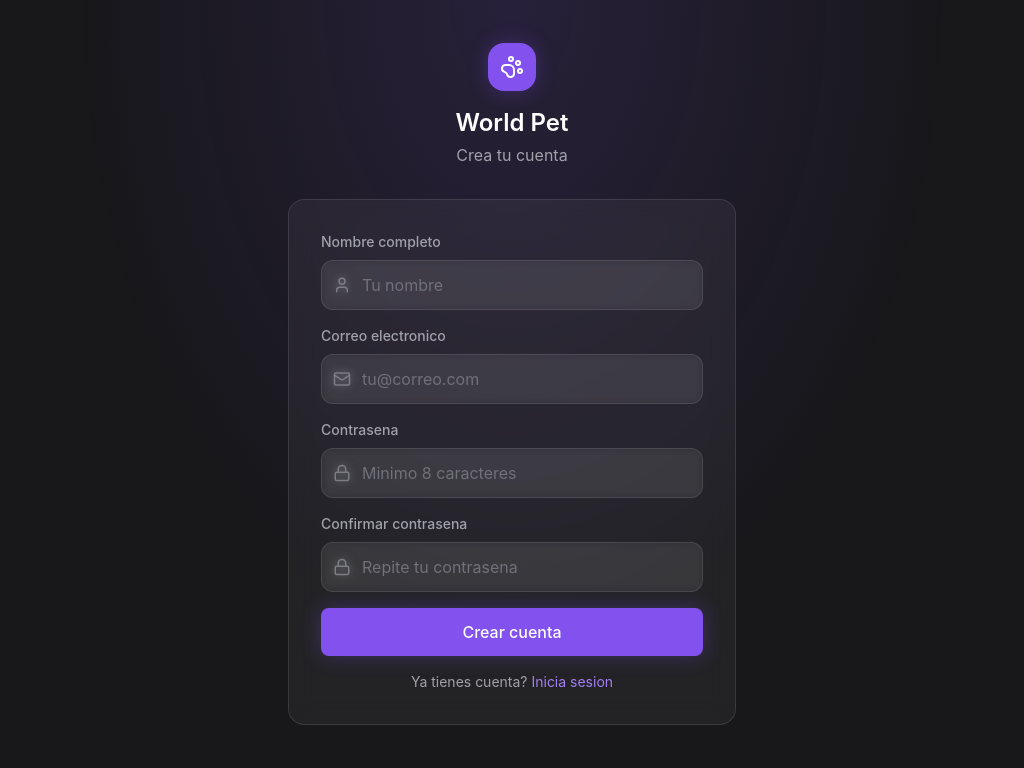
Test case: Register › shows validation error for short name
The width and height of the screenshot is (1024, 768).
Type "A" into the field with placeholder "Tu nombre".
click(512, 285); type("A")  # box [321,260,703,310]
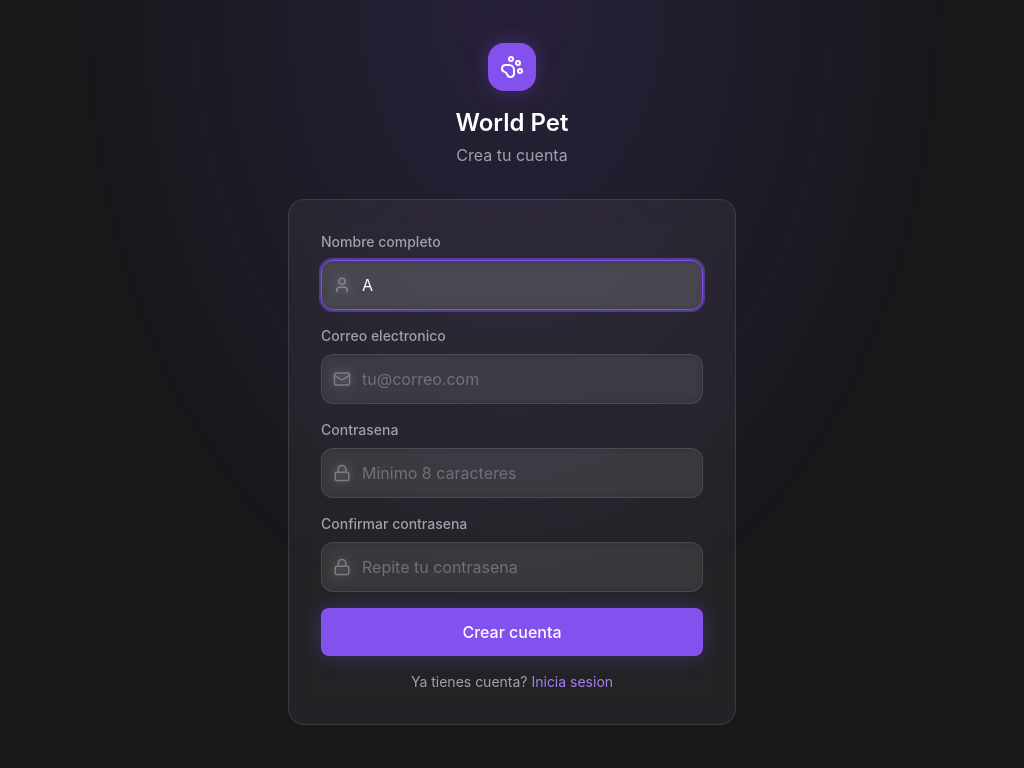
Press Tab
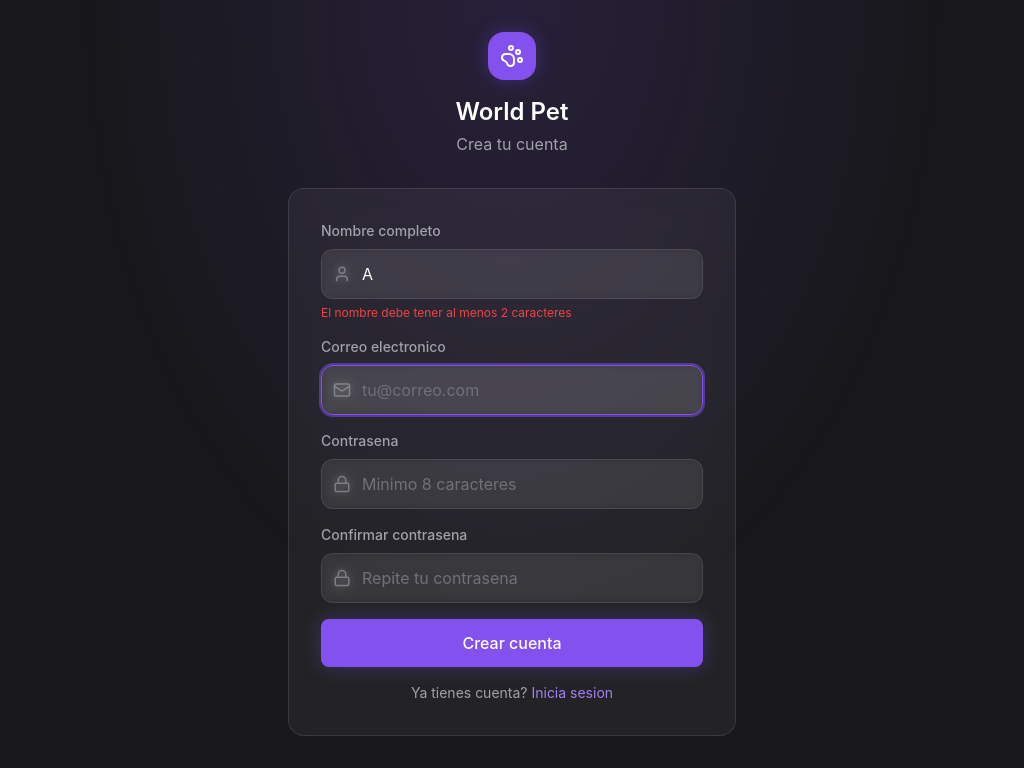
Expected: the text "El nombre debe tener al menos 2 caracteres" is shown, [321,305,572,320]
